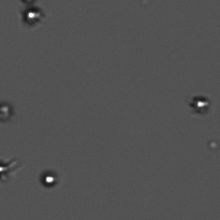Living Cell: (20, 3, 42, 26), (38, 169, 59, 188), (191, 93, 210, 112), (1, 103, 14, 121), (1, 162, 8, 178)
